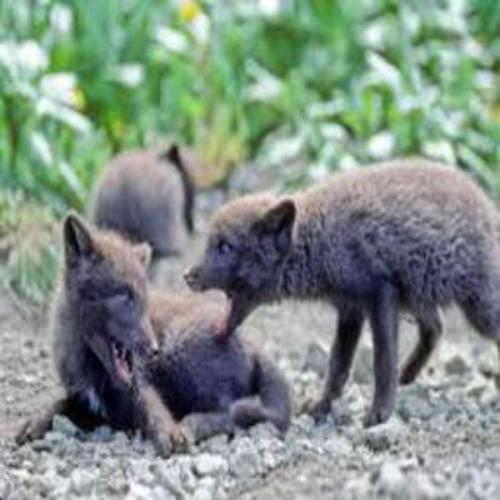arctic_fox-endangered: (182, 158, 500, 423), (24, 210, 298, 449)
